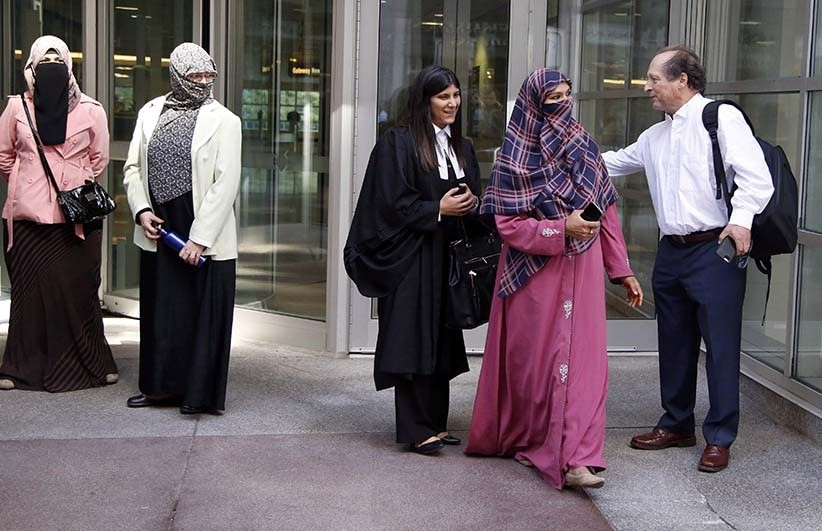face_no_mask: (645, 49, 705, 110), (411, 67, 462, 125)
